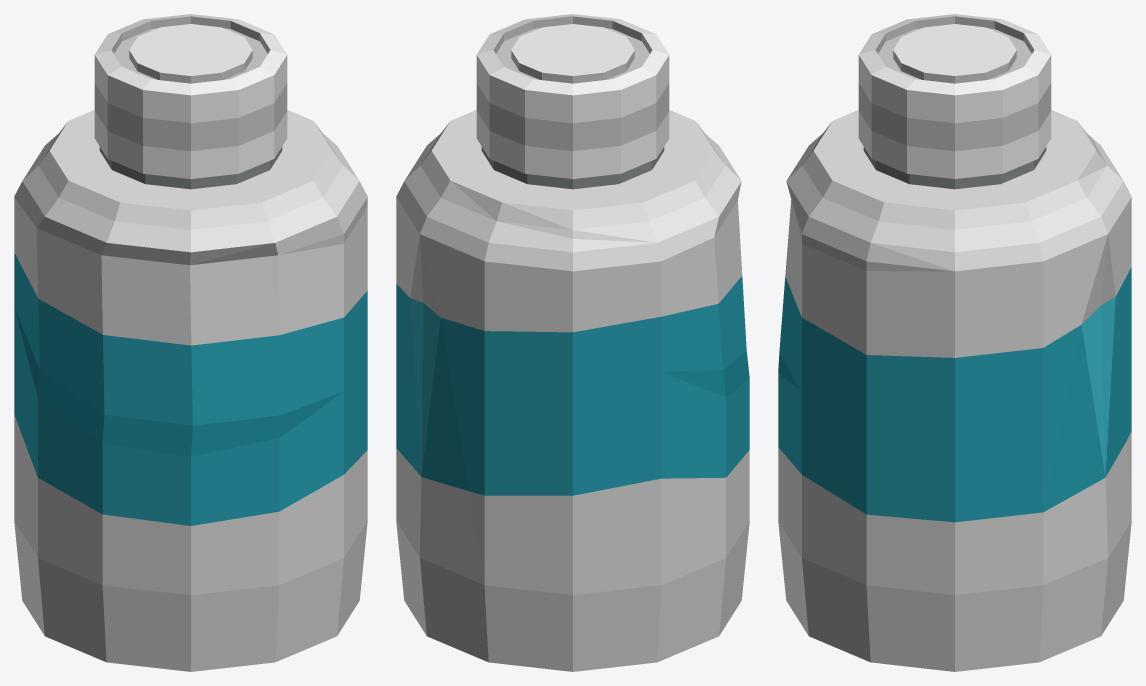
File: mesh_pills_blue.fbx
3 views of the same model, side by side, from view 1: azimuth 30°, elevation 25°; view 2: azimuth 150°, elevation 25°; view 3: azimuth 270°, elevation 25° (orthographic).
Parts seen in each view (by area): view 1: mesh_pills_blue; view 2: mesh_pills_blue; view 3: mesh_pills_blue.
Boxes of the visible parts, box(x1,y1,x2,y2) form: mesh_pills_blue: box(14, 14, 367, 671); mesh_pills_blue: box(396, 14, 749, 671); mesh_pills_blue: box(778, 14, 1131, 671).
Size of the model in its own units: 0.1559 by 0.2679 by 0.1559.
